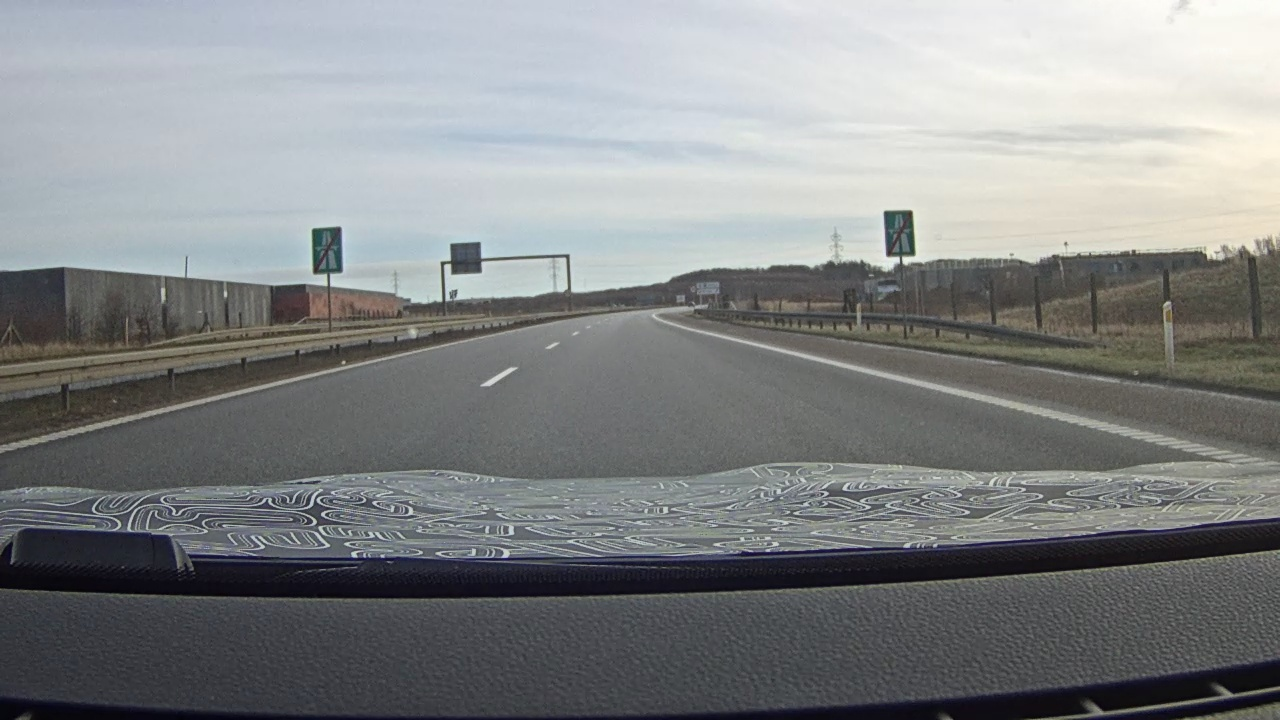Regular_End_Of_Motorway: (310, 226, 344, 275), (883, 209, 916, 258)
